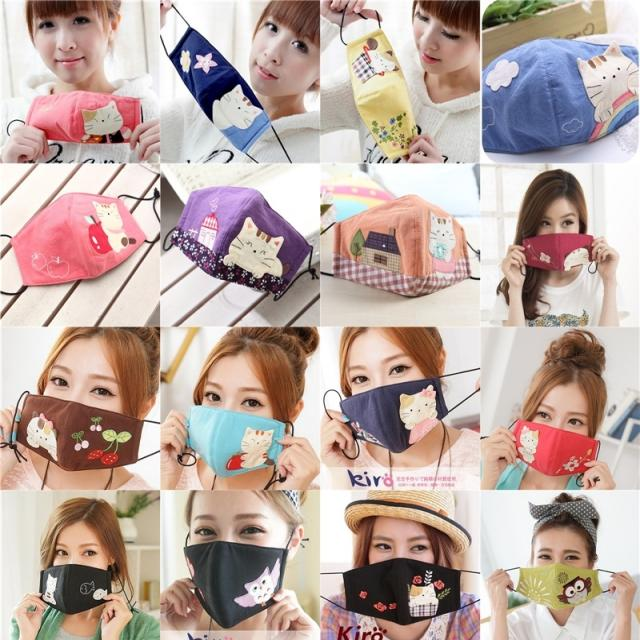mask: (36, 342, 130, 462), (188, 488, 282, 608), (195, 354, 278, 470), (344, 333, 429, 438), (366, 517, 437, 606), (524, 384, 588, 473), (48, 524, 109, 606), (531, 529, 589, 602), (534, 199, 580, 253)
nomask: (248, 5, 322, 96), (33, 0, 106, 83), (413, 0, 475, 73)
